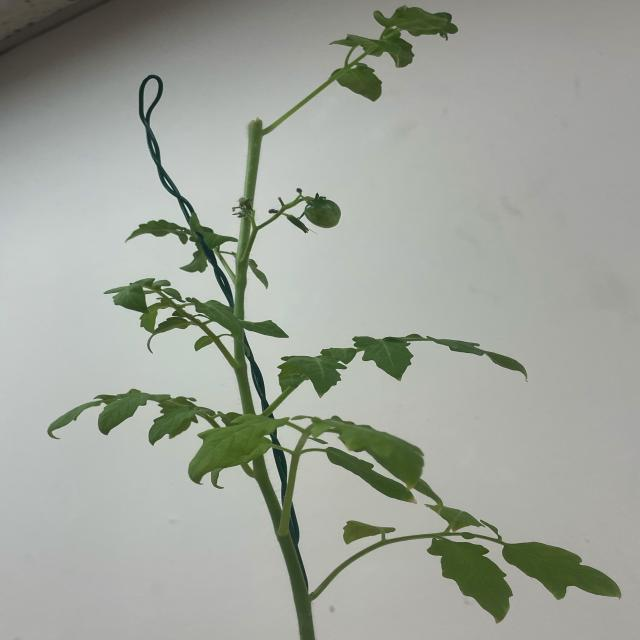level 1: (299, 195, 346, 232)
